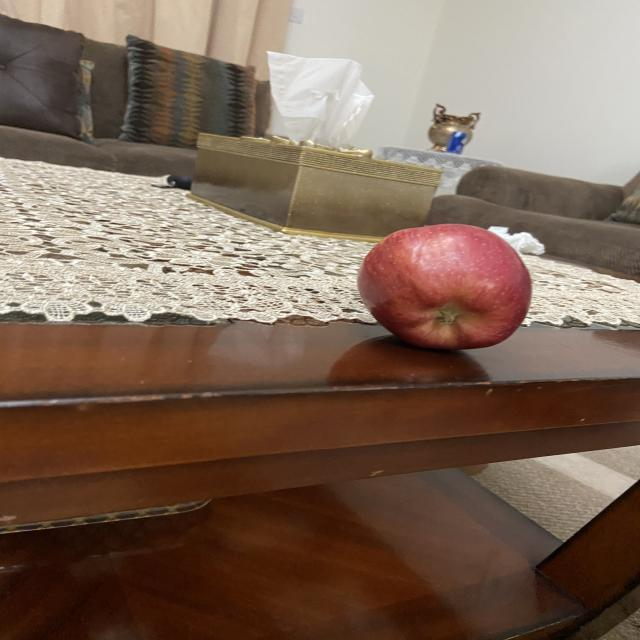apple: (354, 217, 536, 354)
